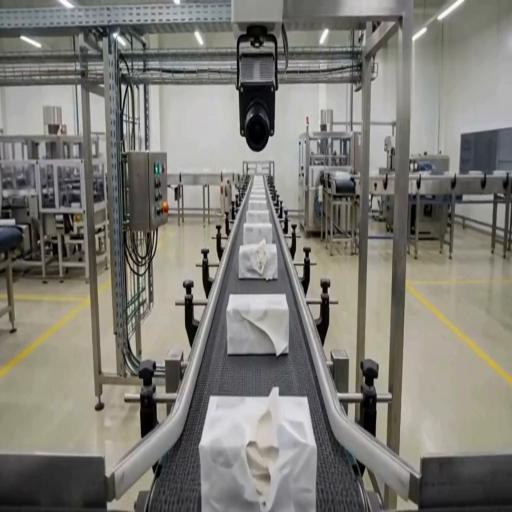defective: (202, 388, 314, 510), (226, 295, 289, 357), (238, 240, 278, 280)
good: (243, 222, 273, 246), (248, 194, 270, 220), (248, 182, 269, 198), (249, 175, 267, 186)
